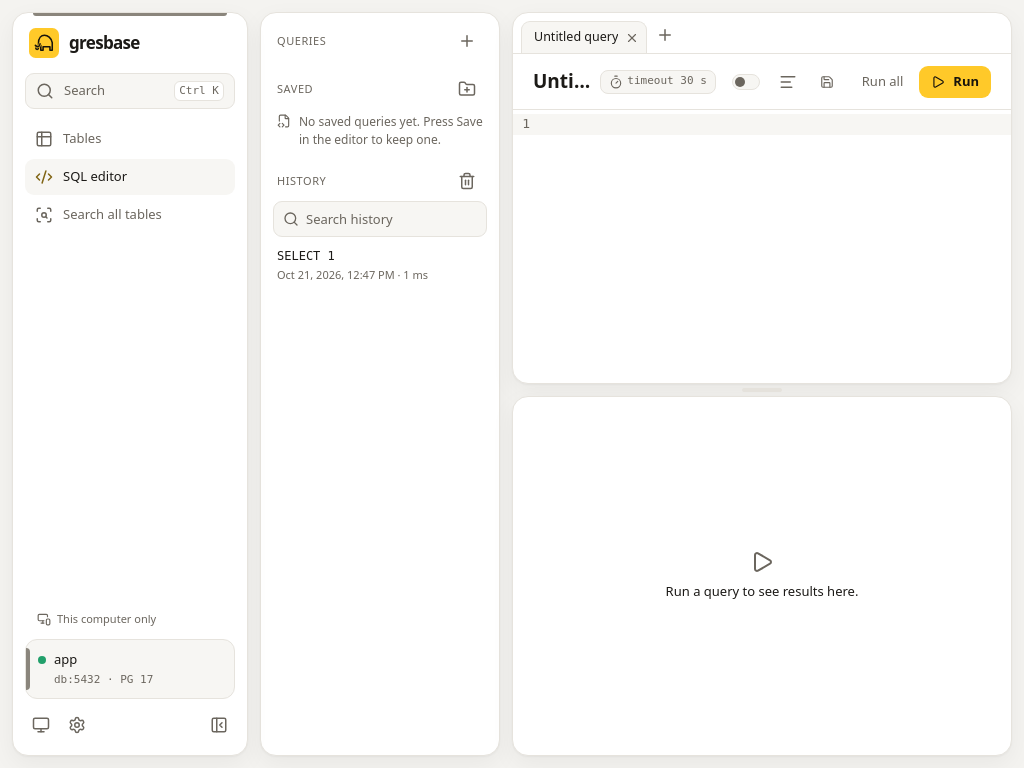
Test: history › clears the history after confirming
Expected: the text "SELECT 1" is shown, left=277, top=247, right=335, bottom=265
Click the button named "Clear history" at (467, 181), box left=451, top=165, right=483, bottom=197
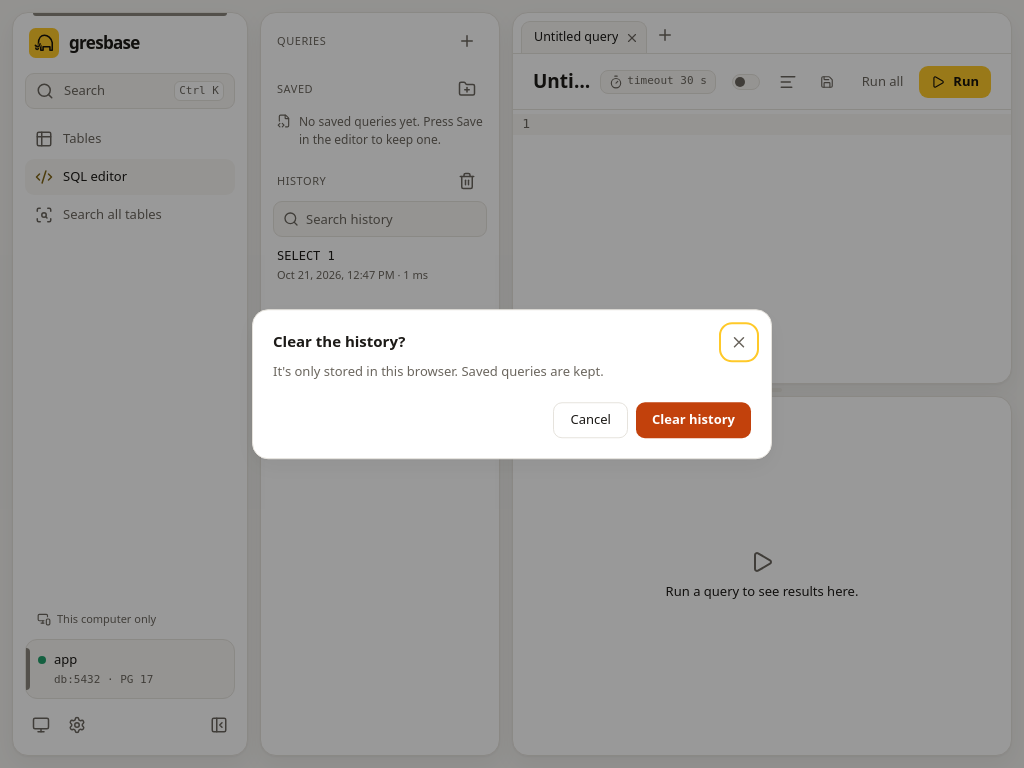
Click the button "Clear history" at (694, 420), box left=636, top=402, right=751, bottom=438
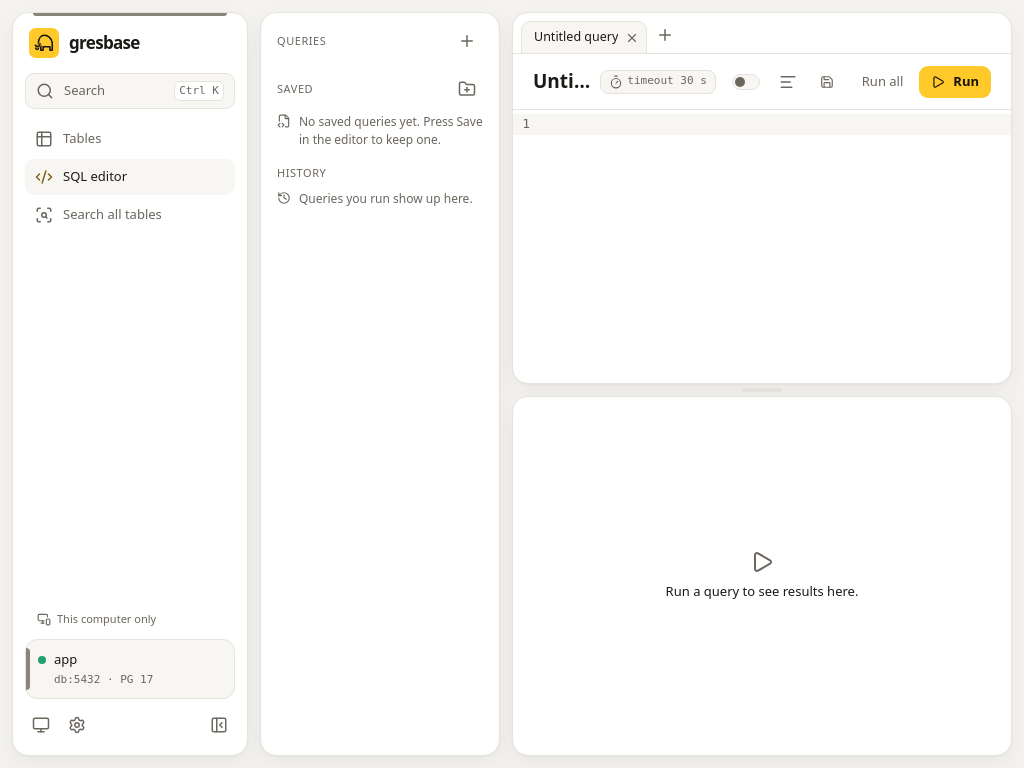
Expected: the text "Queries you run show up here." is shown, left=299, top=190, right=473, bottom=208
